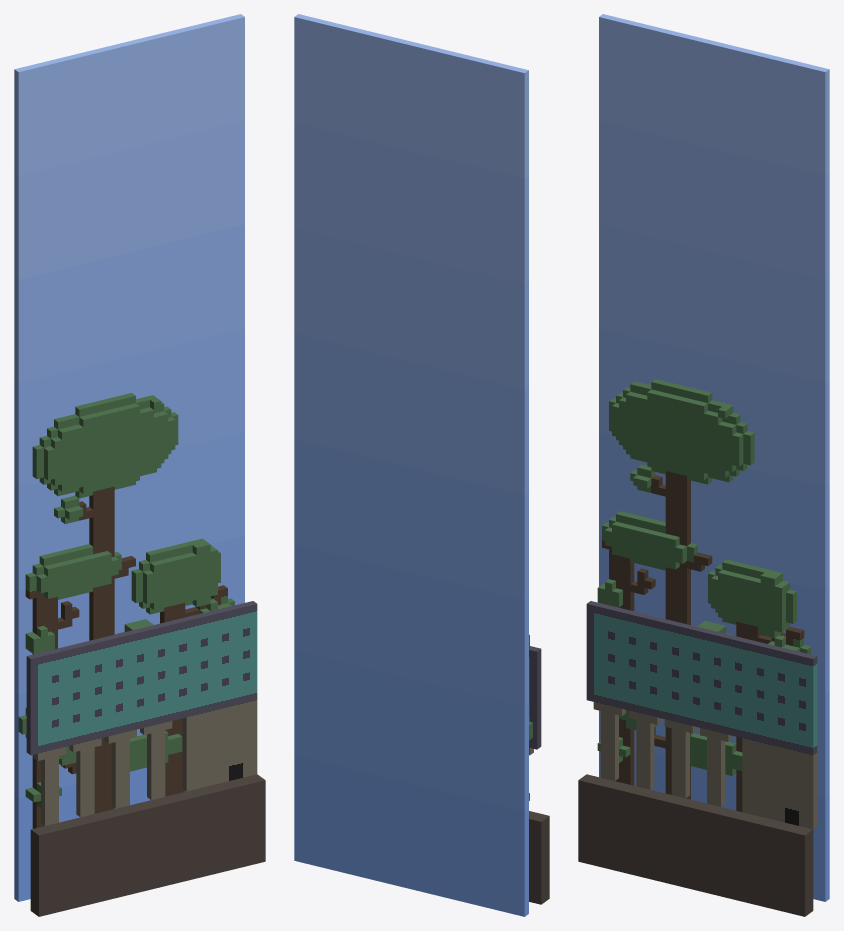
File: scene_tue.glb
The picture shows the model from 3 angles, left to right: view 1: azimuth 30°, elevation 25°; view 2: azimuth 150°, elevation 25°; view 3: azimuth 330°, elevation 25°; orthographic projection.
Visible parts, largest first — view 1: scene_tue_112, scene_tue_111, scene_tue_110; view 2: scene_tue_112, scene_tue_111; view 3: scene_tue_112, scene_tue_111, scene_tue_110.
Part boxes in pixels (x1,y1,x2,y2): scene_tue_112: (14, 14, 244, 901); scene_tue_111: (26, 601, 265, 916); scene_tue_110: (18, 393, 234, 828); scene_tue_112: (294, 14, 528, 916); scene_tue_111: (529, 646, 549, 904); scene_tue_112: (599, 14, 829, 901); scene_tue_111: (578, 601, 817, 916); scene_tue_110: (597, 379, 811, 811).
Size of the model in its own units: 3.2 by 11.2 by 0.6.
1 material, 1 textured.
